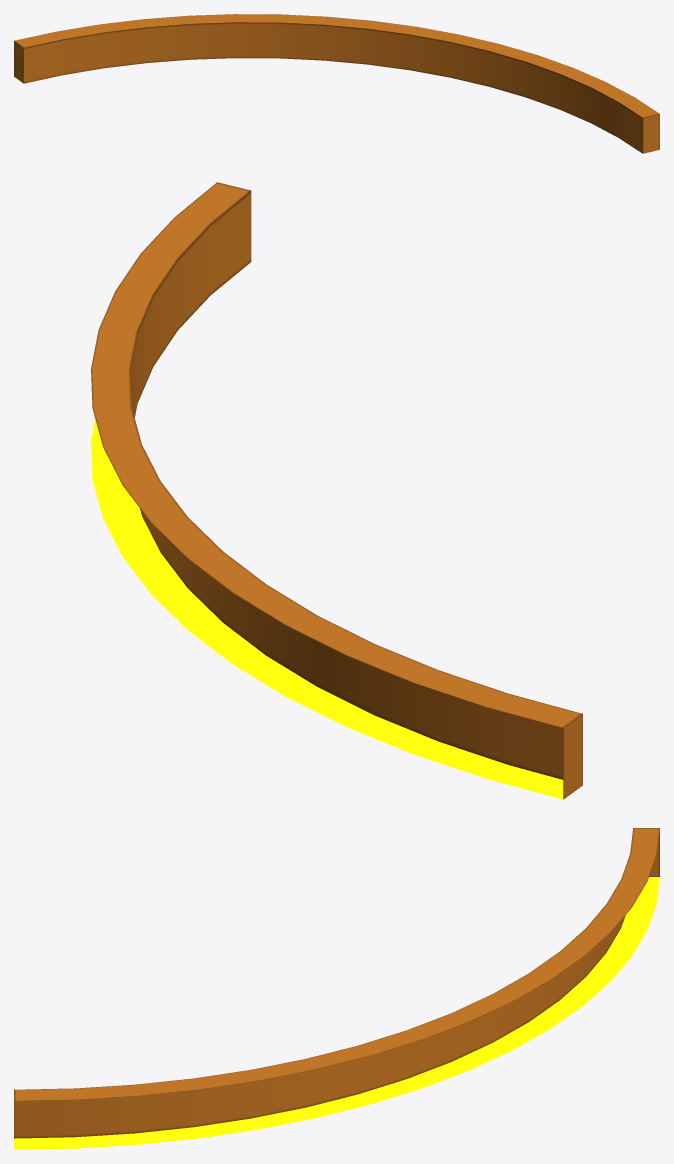
File: Wall_Frieze_05.FBX
The picture shows the model from 3 angles, top to bottom: view 1: azimuth 30°, elevation 25°; view 2: azimuth 150°, elevation 25°; view 3: azimuth 270°, elevation 25°; orthographic projection. The views are drawn at different scales.
Visible parts, largest first — view 1: Wall_Frieze_05; view 2: Wall_Frieze_05; view 3: Wall_Frieze_05.
Boxes of the visible parts, x1,y1,x2,y2 form: Wall_Frieze_05: (14,14,659,153); Wall_Frieze_05: (91,182,582,799); Wall_Frieze_05: (14,828,659,1149).
Bounding box in the file's own units: 6 × 0.5 × 6.
